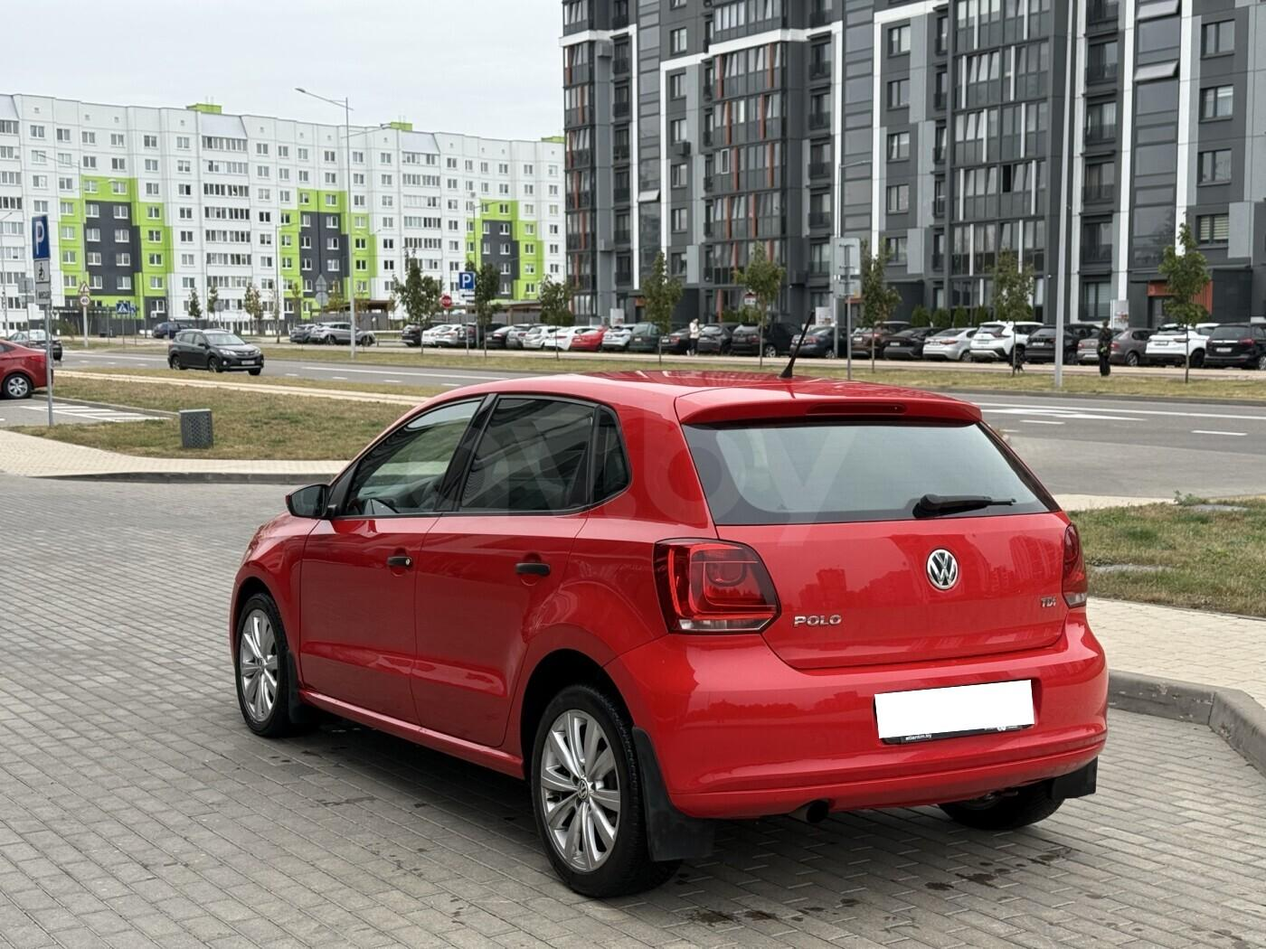Polo_2009-2015: (215, 338, 1112, 907)
